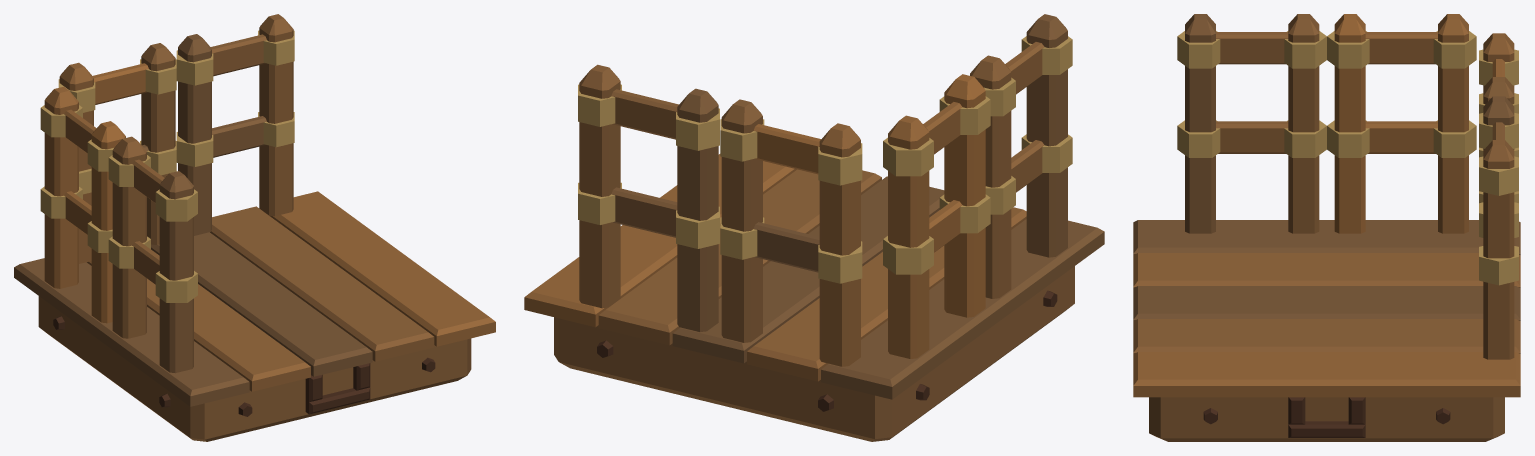
File: turning-stair-landing-066019.glb
3 views of the same model, side by side, from view 1: azimuth 30°, elevation 25°; view 2: azimuth 150°, elevation 25°; view 3: azimuth 270°, elevation 25° (orthographic). The views are drawn at different scales.
Parts seen in each view (by area): view 1: deck, guard-left-mesh, guard-back-mesh; view 2: deck, guard-back-mesh, guard-left-mesh; view 3: deck, guard-left-mesh, guard-back-mesh.
Part boxes in pixels (left/top/right/bottom): deck: left=14, top=191, right=495, bottom=441; guard-left-mesh: left=40, top=86, right=197, bottom=373; guard-back-mesh: left=58, top=14, right=294, bottom=263; deck: left=524, top=154, right=1104, bottom=441; guard-back-mesh: left=578, top=64, right=862, bottom=366; guard-left-mesh: left=883, top=14, right=1072, bottom=358; deck: left=1133, top=220, right=1520, bottom=441; guard-left-mesh: left=1177, top=14, right=1476, bottom=233; guard-back-mesh: left=1479, top=33, right=1518, bottom=359.
Size of the model in its own units: 1 by 0.8 by 1.
